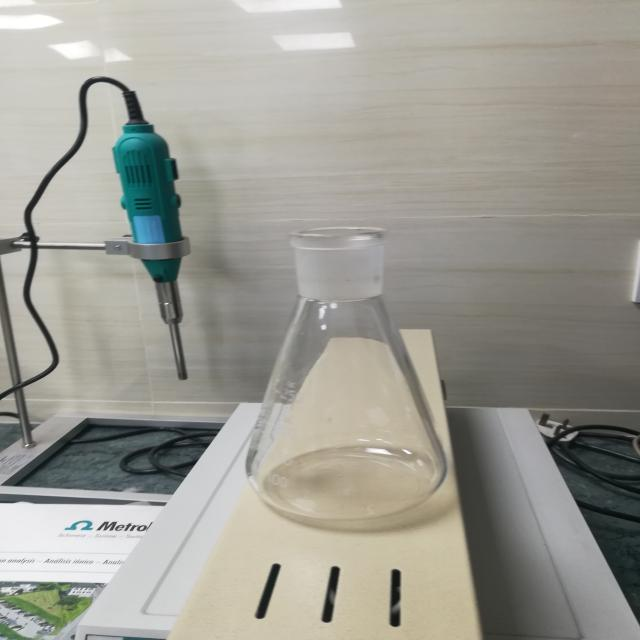Conical_Flask: (204, 199, 486, 564)
